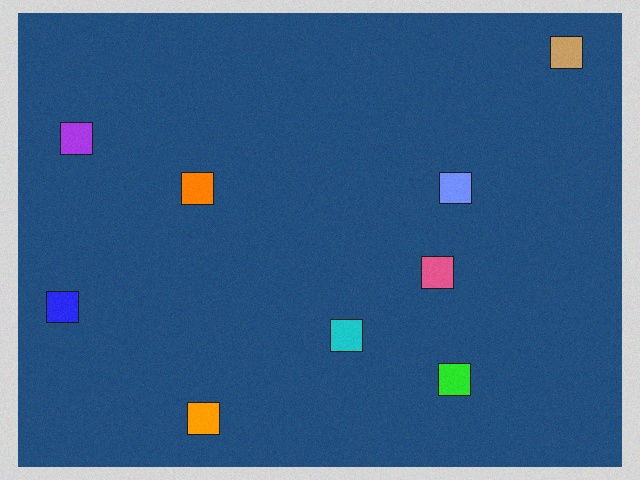block: (538, 37, 583, 78), (61, 122, 105, 159), (47, 288, 92, 323), (188, 393, 225, 434), (432, 357, 470, 396), (433, 172, 472, 206), (182, 173, 219, 207), (416, 256, 454, 289), (330, 316, 362, 352)
